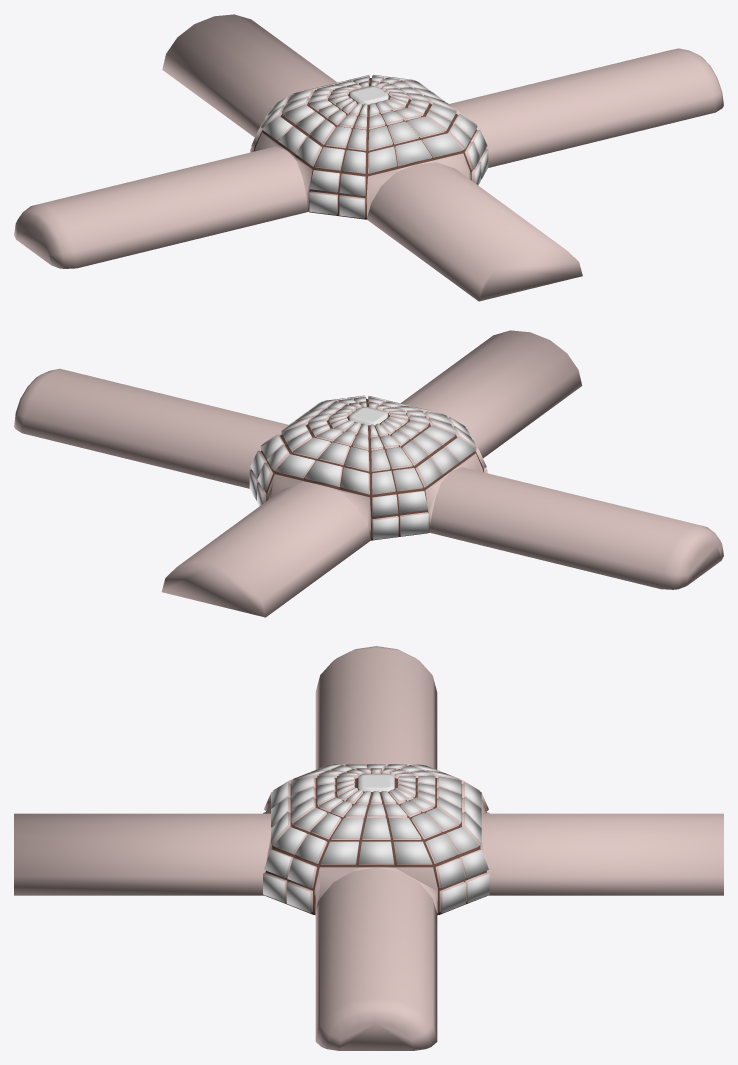
The model's file is mall roof.fbx.
3 views of the same model, one above another, from view 1: azimuth 30°, elevation 25°; view 2: azimuth 150°, elevation 25°; view 3: azimuth 270°, elevation 25° (orthographic). The views are drawn at different scales.
Visible parts, largest first — view 1: roof; view 2: roof; view 3: roof.
Boxes of the visible parts, x1,y1,x2,y2 form: roof: (14,14,723,301); roof: (14,330,723,617); roof: (14,646,723,1050).
Size of the model in its own units: 2766 by 302 by 2259.
